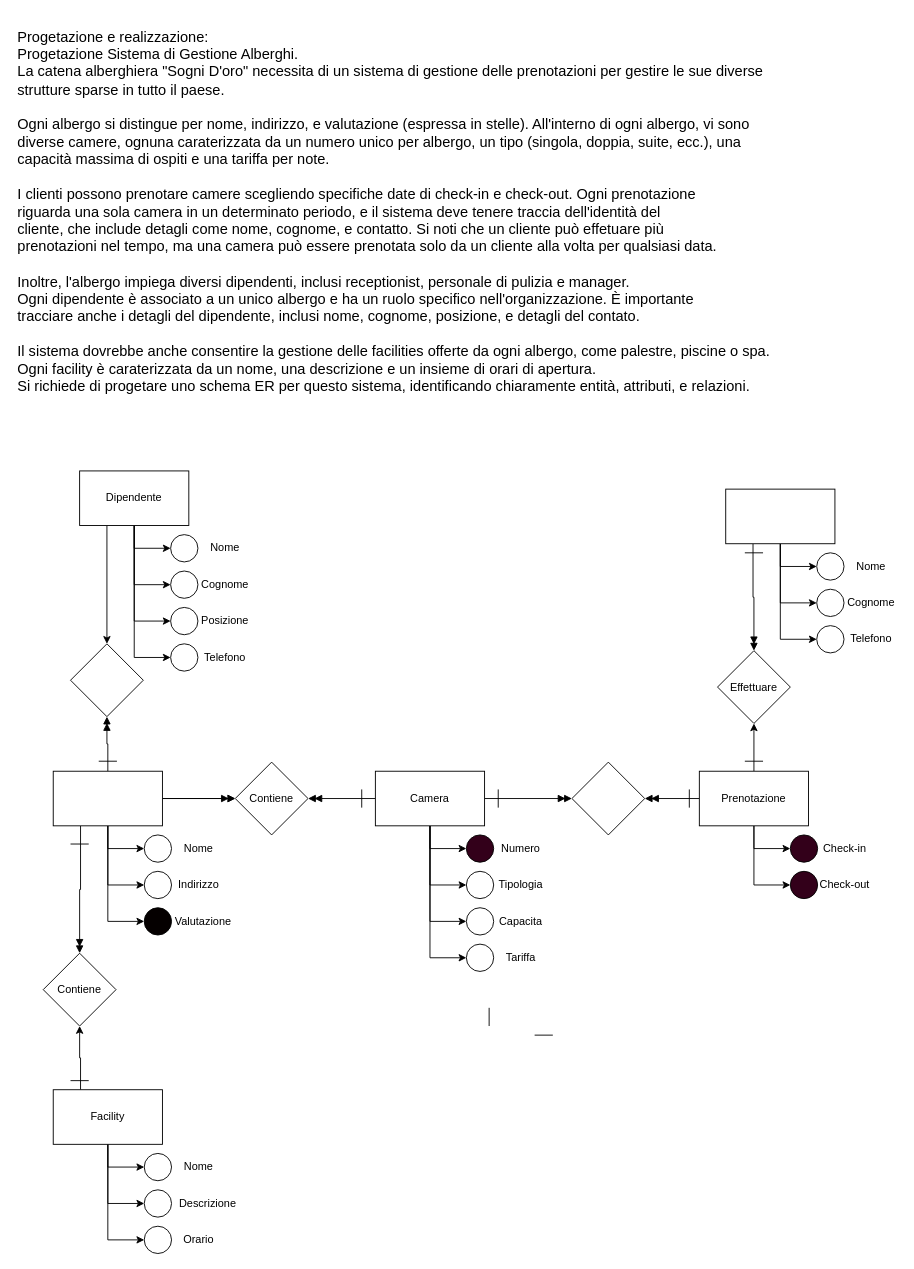
This 914x1269 diagram has some shape labels left out. Each missing label, with the centre of its shape:
Albergo: point 107,798
Cliente: point 780,516
Lavora: point 106,680
Riceve: point 608,798
